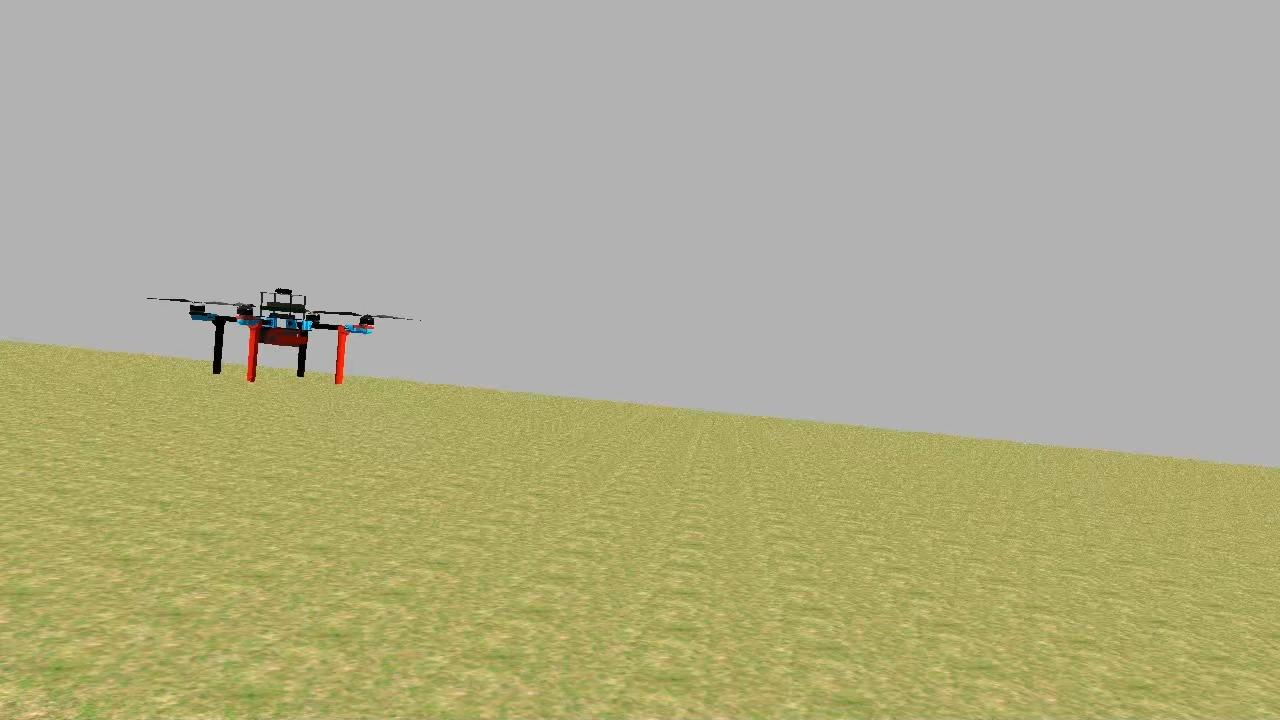UAV: (180, 261, 383, 406)
